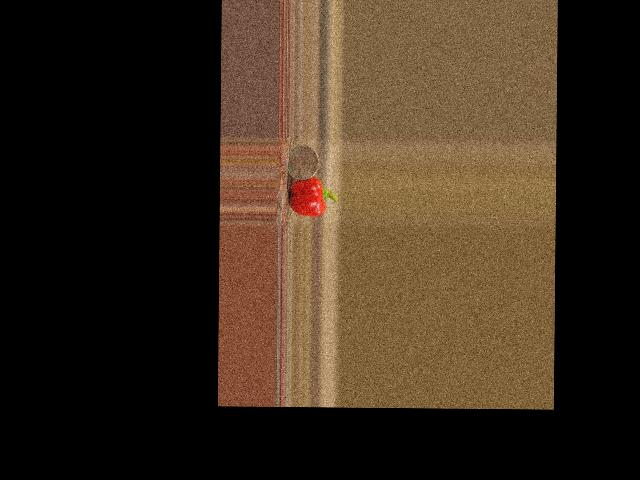bell_pepper: (287, 178, 337, 217)
